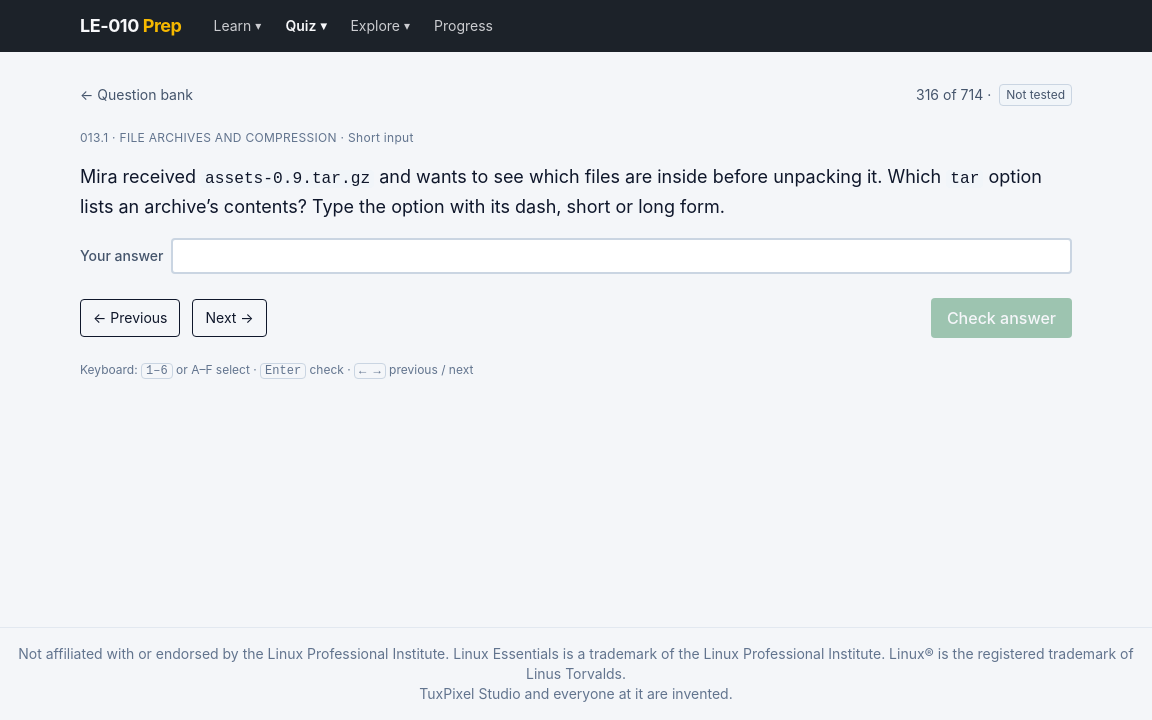
Test: pages › checks a typed answer with Enter, reveals the key and records the attempt
Step 1. Type "--list" into the field labelled "Your answer" → (622, 256), box [172,238,1072,274]
Then press Enter
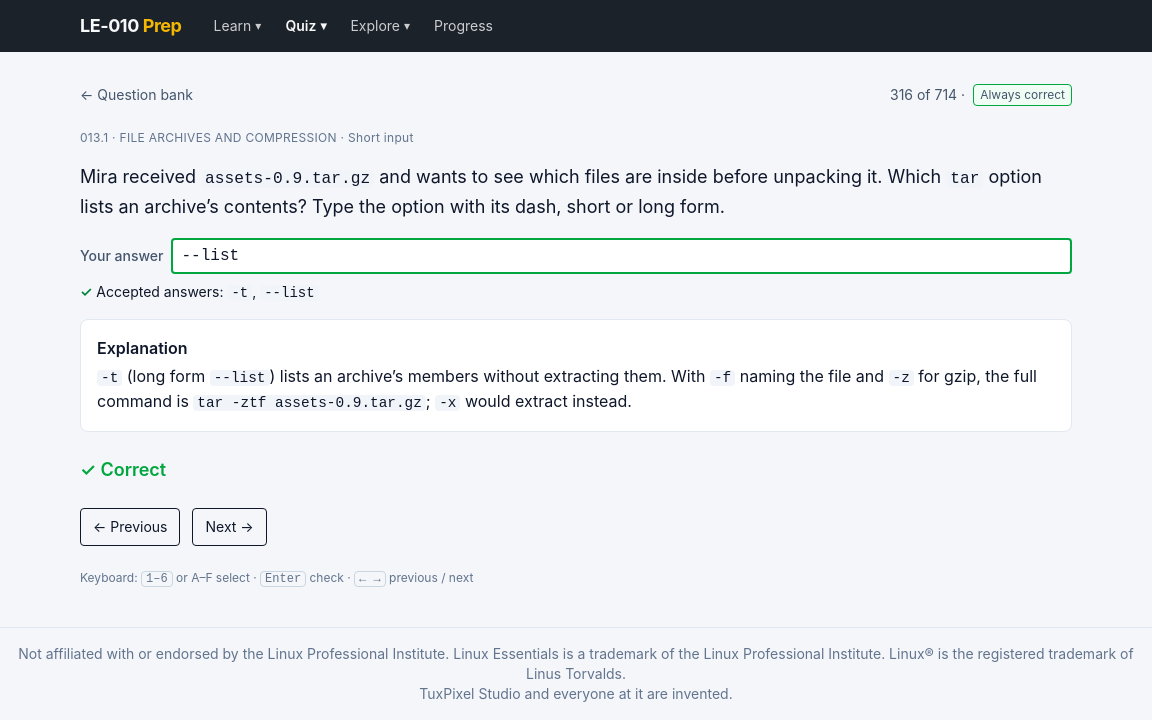
expect the message shows "Correct": met, box [80,459,166,480]
expect the text "✓Accepted answers: -t, --list" is shown: met, box [80,282,319,301]
